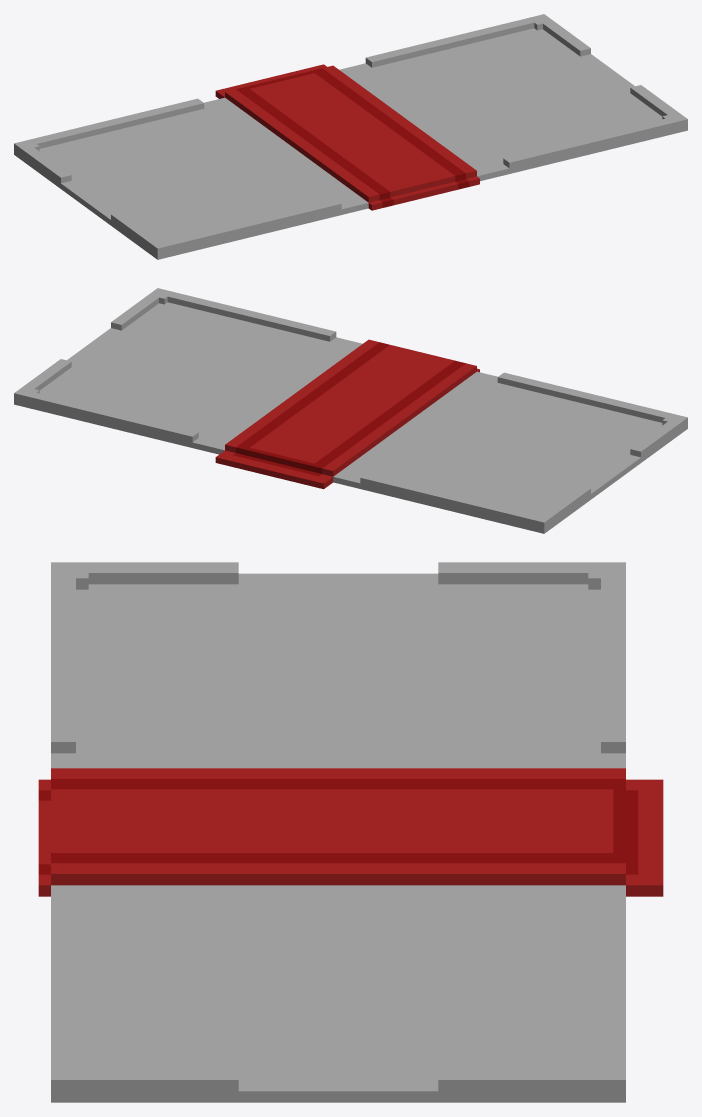
The model's file is Altar.obj.
3 views of the same model, one above another, from view 1: azimuth 30°, elevation 25°; view 2: azimuth 150°, elevation 25°; view 3: azimuth 270°, elevation 25° (orthographic). The views are drawn at different scales.
Bounding box in the file's own units: 9.8 × 0.2 × 5.
Materials: 1 (1 with a texture image).
